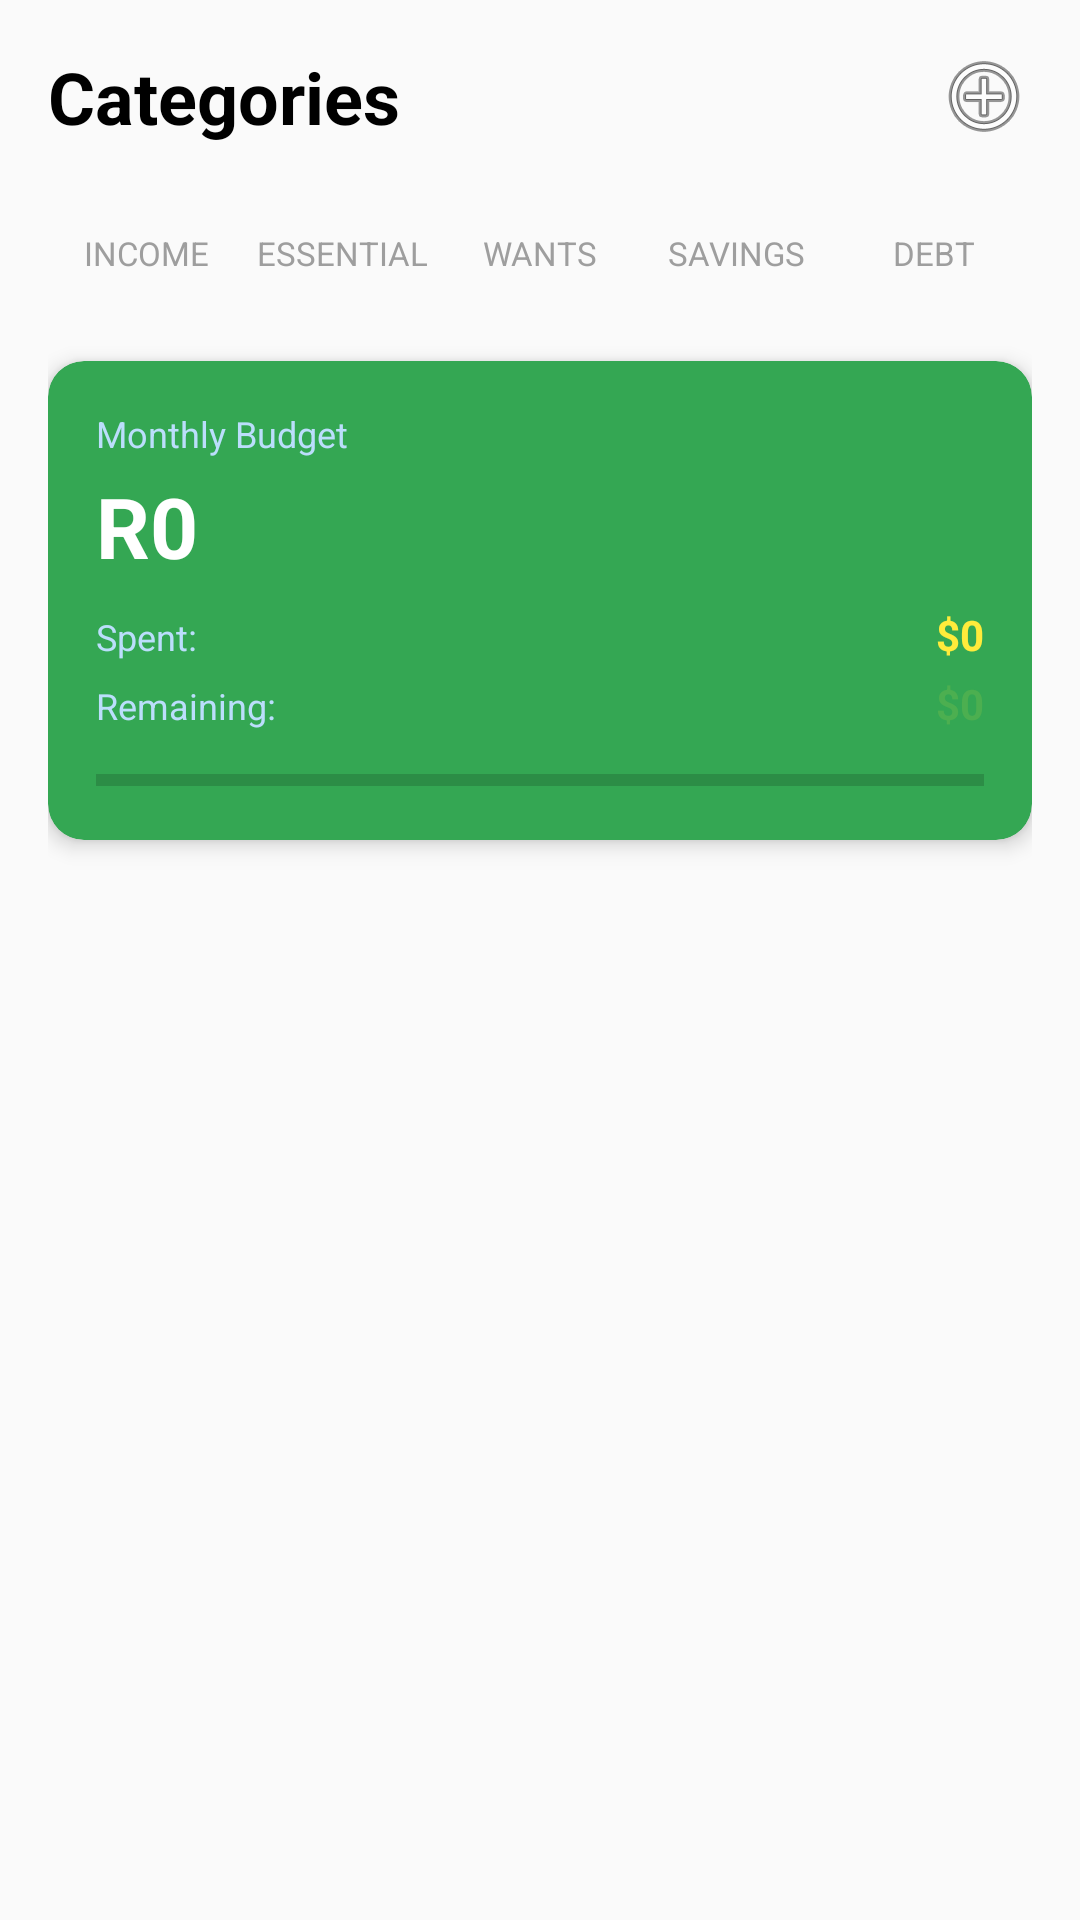

Where icons sit on this 1080px×1920px app screen, as {"x1": x1, "y1": y1, "x2": x2, "y2": y2}:
Add Category: {"x1": 948, "y1": 61, "x2": 1020, "y2": 132}
